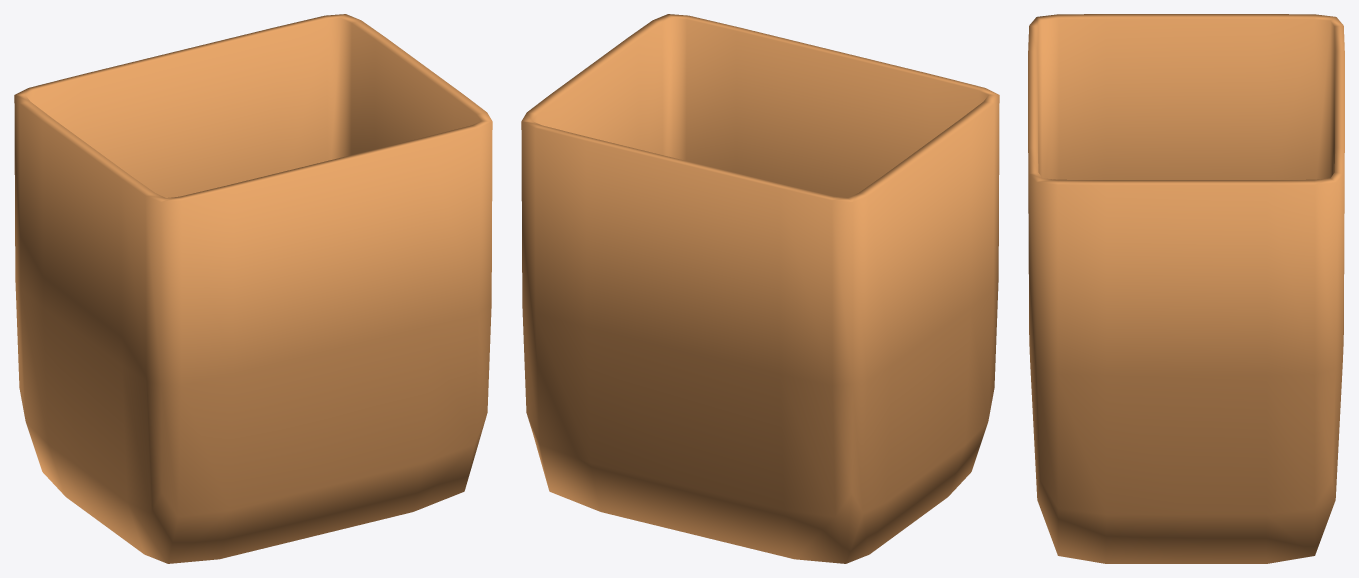
File: Backpack.fbx
3 views of the same model, side by side, from view 1: azimuth 30°, elevation 25°; view 2: azimuth 150°, elevation 25°; view 3: azimuth 270°, elevation 25° (orthographic). The views are drawn at different scales.
Visible parts, largest first — view 1: Backpack; view 2: Backpack; view 3: Backpack.
Part boxes in pixels (x1,y1,x2,y2): Backpack: (14,14,492,563); Backpack: (521,14,999,563); Backpack: (1028,14,1344,563).
Size of the model in its own units: 103 by 112 by 80.52.
